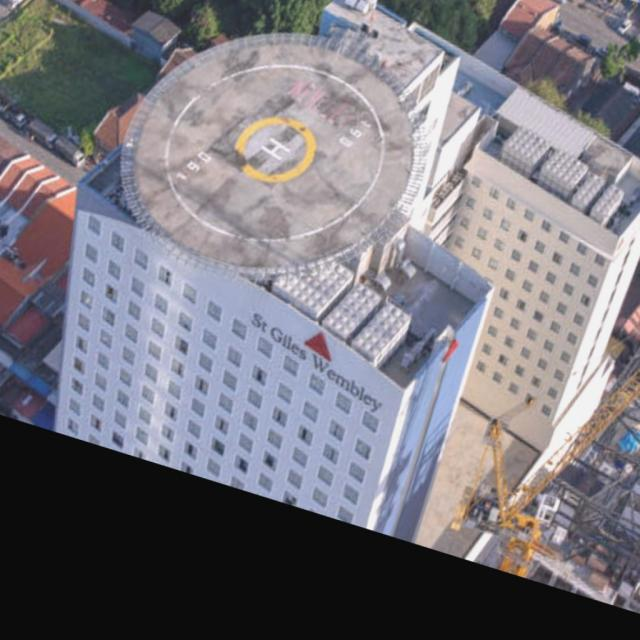helipad: (233, 112, 317, 184)
